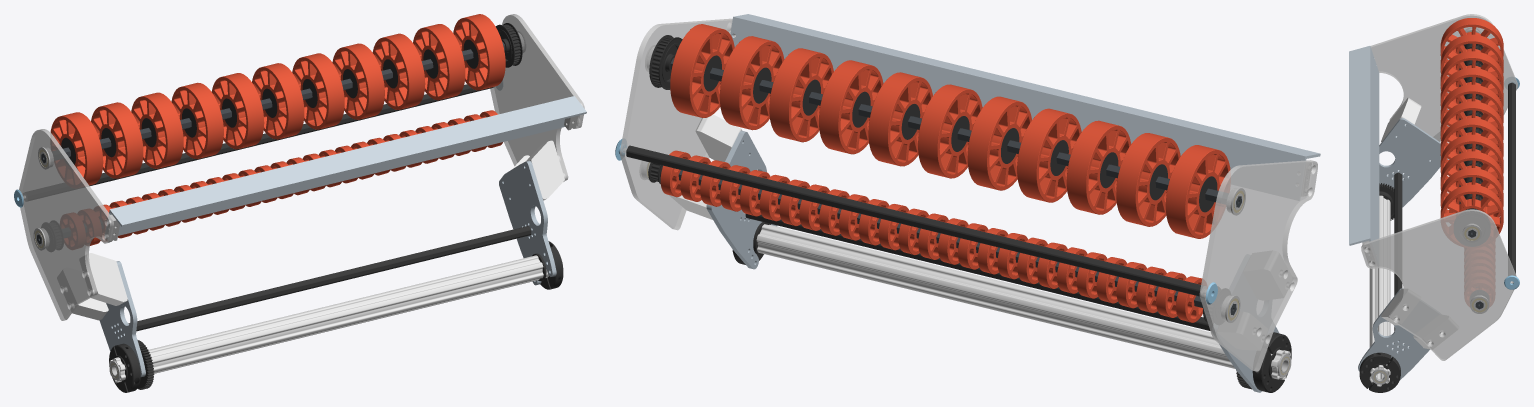
The picture shows the model from 3 angles, left to right: view 1: azimuth 30°, elevation 25°; view 2: azimuth 150°, elevation 25°; view 3: azimuth 270°, elevation 25°; orthographic projection. The views are drawn at different scales.
Parts seen in each view (by area): view 1: 4" Compliant Wheel (40A, 1" Wide, 1/2" Hex Bore) (×11), NTK-26056-001, MAXSpline (27.433" L), NTK_26062-001, NTK-26042-001, NTK-26044-001 (×2), NTK-26045-001 (×3), 1/2" Rounded Hex (25.26" L, 13.75mm OD), 1/2" Rounded Hex (29" L, 13.75mm OD), MAXSpline Clamping Shaft Collar (×2), NTK-26043-001, 2" Compliant Wheel (40A, 3/4" Wide, 1/2" Hex Stretch Bore) (×2) (+1 smaller); view 2: 4" Compliant Wheel (40A, 1" Wide, 1/2" Hex Bore) (×11), 2" Compliant Wheel (40A, 3/4" Wide, 1/2" Hex Stretch Bore) (×27), NTK-26056-001, NTK_26062-001, MAXSpline (27.433" L), NTK-26042-001, 1/2" Rounded Hex (29" L, 13.75mm OD), NTK-26044-001 (×2), NTK-26045-001 (×3), NTK-26043-001 (×2), 1/2" Rounded Hex (25.26" L, 13.75mm OD), MAXSpline Clamping Shaft Collar (+1 smaller); view 3: NTK-26042-001, 4" Compliant Wheel (40A, 1" Wide, 1/2" Hex Bore) (×11), NTK-26056-001, NTK-26044-001 (×2), NTK_26062-001, NTK-26045-001 (×3), MAXSpline (27.433" L), 1/2" Rounded Hex (29" L, 13.75mm OD), 1/2" Rounded Hex (25.26" L, 13.75mm OD), MAXSpline Clamping Shaft Collar, 36t Aluminum Pulley (HTD 5mm, 9mm Wide, 1/2" Hex Bore), 1/2" Hex Bore Bearing (1.125" OD, 0.313" WD, Shielded, Flang (×2) (+5 smaller).
Part boxes in pixels (left/top/right/bottom): 4" Compliant Wheel (40A, 1" Wide, 1/2" Hex Bore) (×11): left=50, top=14, right=505, bottom=187; NTK-26056-001: left=109, top=96, right=586, bottom=235; MAXSpline (27.433" L): left=109, top=255, right=562, bottom=382; NTK_26062-001: left=19, top=129, right=113, bottom=320; NTK-26042-001: left=490, top=14, right=584, bottom=181; NTK-26044-001 (×2): left=99, top=160, right=556, bottom=376; NTK-26045-001 (×3): left=57, top=140, right=564, bottom=320; 1/2" Rounded Hex (25.26" L, 13.75mm OD): left=128, top=226, right=531, bottom=331; 1/2" Rounded Hex (29" L, 13.75mm OD): left=23, top=84, right=493, bottom=200; MAXSpline Clamping Shaft Collar (×2): left=109, top=241, right=563, bottom=392; NTK-26043-001: left=41, top=41, right=505, bottom=163; 2" Compliant Wheel (40A, 3/4" Wide, 1/2" Hex Stretch Bore) (×2): left=60, top=209, right=101, bottom=249; 4" Compliant Wheel (40A, 1" Wide, 1/2" Hex Bore) (×11): left=670, top=24, right=1230, bottom=238; 2" Compliant Wheel (40A, 3/4" Wide, 1/2" Hex Stretch Bore) (×27): left=660, top=150, right=1206, bottom=322; NTK-26056-001: left=730, top=14, right=1320, bottom=200; NTK_26062-001: left=1199, top=160, right=1317, bottom=371; MAXSpline (27.433" L): left=756, top=224, right=1291, bottom=379; NTK-26042-001: left=620, top=18, right=732, bottom=230; 1/2" Rounded Hex (29" L, 13.75mm OD): left=626, top=145, right=1205, bottom=296; NTK-26044-001 (×2): left=706, top=130, right=1279, bottom=392; NTK-26045-001 (×3): left=695, top=114, right=1292, bottom=349; NTK-26043-001 (×2): left=670, top=58, right=1241, bottom=315; 1/2" Rounded Hex (25.26" L, 13.75mm OD): left=745, top=214, right=1213, bottom=330; MAXSpline Clamping Shaft Collar: left=1252, top=332, right=1291, bottom=392; NTK-26042-001: left=1361, top=209, right=1516, bottom=360; 4" Compliant Wheel (40A, 1" Wide, 1/2" Hex Bore) (×11): left=1440, top=18, right=1503, bottom=247; NTK-26056-001: left=1349, top=46, right=1379, bottom=265; NTK-26044-001 (×2): left=1358, top=118, right=1440, bottom=380; NTK_26062-001: left=1370, top=14, right=1517, bottom=159; NTK-26045-001 (×3): left=1381, top=97, right=1458, bottom=349; MAXSpline (27.433" L): left=1369, top=195, right=1390, bottom=386; 1/2" Rounded Hex (29" L, 13.75mm OD): left=1508, top=82, right=1515, bottom=283; 1/2" Rounded Hex (25.26" L, 13.75mm OD): left=1394, top=172, right=1402, bottom=346; MAXSpline Clamping Shaft Collar: left=1359, top=352, right=1400, bottom=392; 36t Aluminum Pulley (HTD 5mm, 9mm Wide, 1/2" Hex Bore): left=1454, top=210, right=1489, bottom=246; 1/2" Hex Bore Bearing (1.125" OD, 0.313" WD, Shielded, Flang (×2): left=1462, top=224, right=1489, bottom=313.
Bounding box in the file's own units: 0.7595 × 0.3514 × 0.2745.
